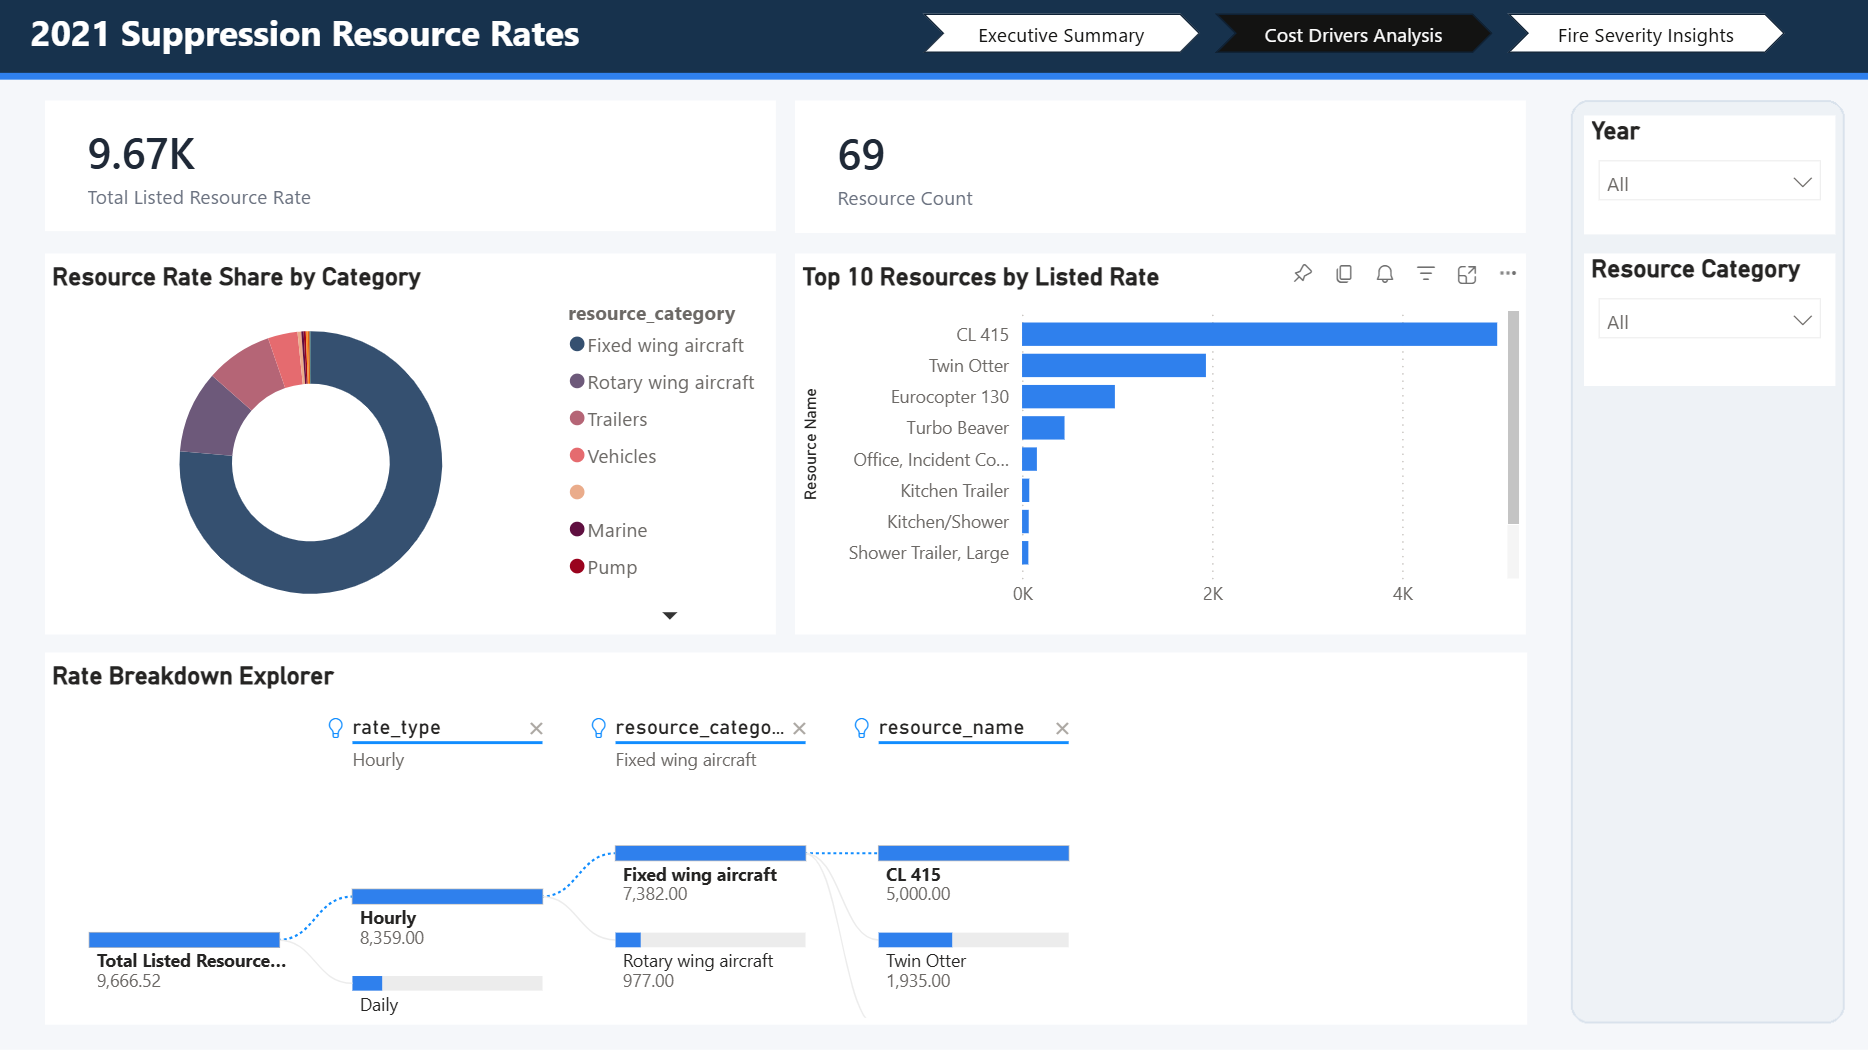

Layout of this report page (visuals, bound fields, positions):
{"tool":"powerbi","page":{"name":"Cost Drivers Analysis","canvas":[1280,720],"ordinal":1},"visuals":[{"type":"slicer","title":"Resource Category","fields":{"Values":["suppression_rates_clean.resource_category"]},"box":[1084.2,173.6,172.2,90.9],"z":0},{"type":"clusteredBarChart","title":"Top 10 Resources by Listed Rate","fields":{"Category":["suppression_rates_clean.resource_name"],"Y":["measures_.Total Listed Resource Rate"]},"box":[544.1,173.6,500.1,260.4],"z":1000},{"type":"donutChart","title":"Resource Rate Share by Category","fields":{"Category":["suppression_rates_clean.resource_category"],"Y":["measures_.Total Listed Resource Rate"]},"box":[30.3,173.6,500.1,260.4],"z":2000},{"type":"decompositionTreeVisual","title":"Rate Breakdown Explorer","fields":{"Analyze":["measures_.Total Listed Resource Rate"],"ExplainBy":["suppression_rates_clean.rate_type","suppression_rates_clean.resource_category","suppression_rates_clean.resource_name"]},"box":[30.3,446.3,1013.9,254.9],"z":3000},{"type":"pageNavigator","box":[630.9,9.6,591,27.6],"z":4000},{"type":"textbox","box":[9.6,0,560.7,51],"z":5000},{"type":"slicer","title":"Year","fields":{"Values":["Dim_Year.year"]},"box":[1084.2,78.5,172.2,81.3],"z":6000},{"type":"cardVisual","fields":{"Data":["measures_.Total Listed Resource Rate"]},"box":[30.3,68.9,500,89.5],"z":7000},{"type":"cardVisual","fields":{"Data":["measures_.Resource Count"]},"box":[544.1,68.9,500.1,90.9],"z":8000}]}

Visuals, with their boxes in screenshot pixels (x1, y1, x2, y2), scaled from the page's 1280x720 canvas onto the 1868x1052 screenshot:
"Resource Category" slicer: (1582, 254, 1834, 386)
"Top 10 Resources by Listed Rate" clusteredBarChart: (794, 254, 1524, 634)
"Resource Rate Share by Category" donutChart: (44, 254, 774, 634)
"Rate Breakdown Explorer" decompositionTreeVisual: (44, 652, 1524, 1025)
pageNavigator: (921, 14, 1783, 54)
textbox: (14, 0, 832, 75)
"Year" slicer: (1582, 115, 1834, 233)
cardVisual - measures_.Total Listed Resource Rate: (44, 101, 774, 231)
cardVisual - measures_.Resource Count: (794, 101, 1524, 233)
